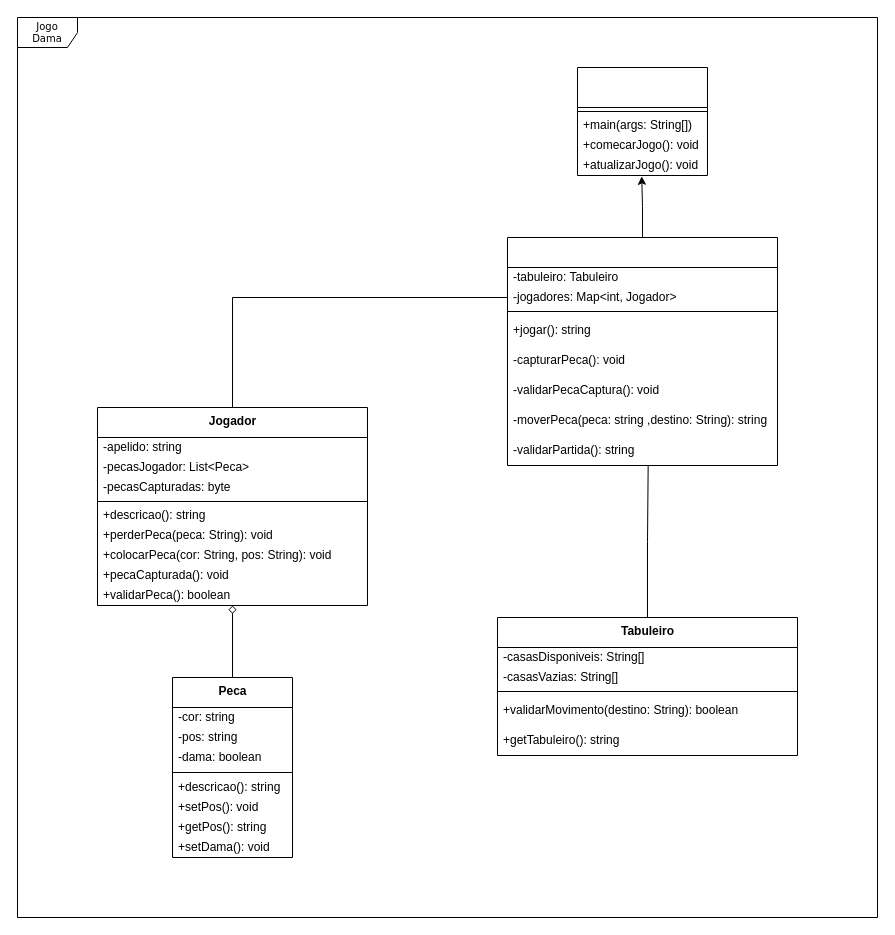
This 895x935 diagram has some shape labels left out. The box of each missing label's shape, as (x1, y1, x2, y2) in pixels:
main JogoDama: (576, 66, 708, 176)
PartidaDama: (506, 236, 778, 466)
